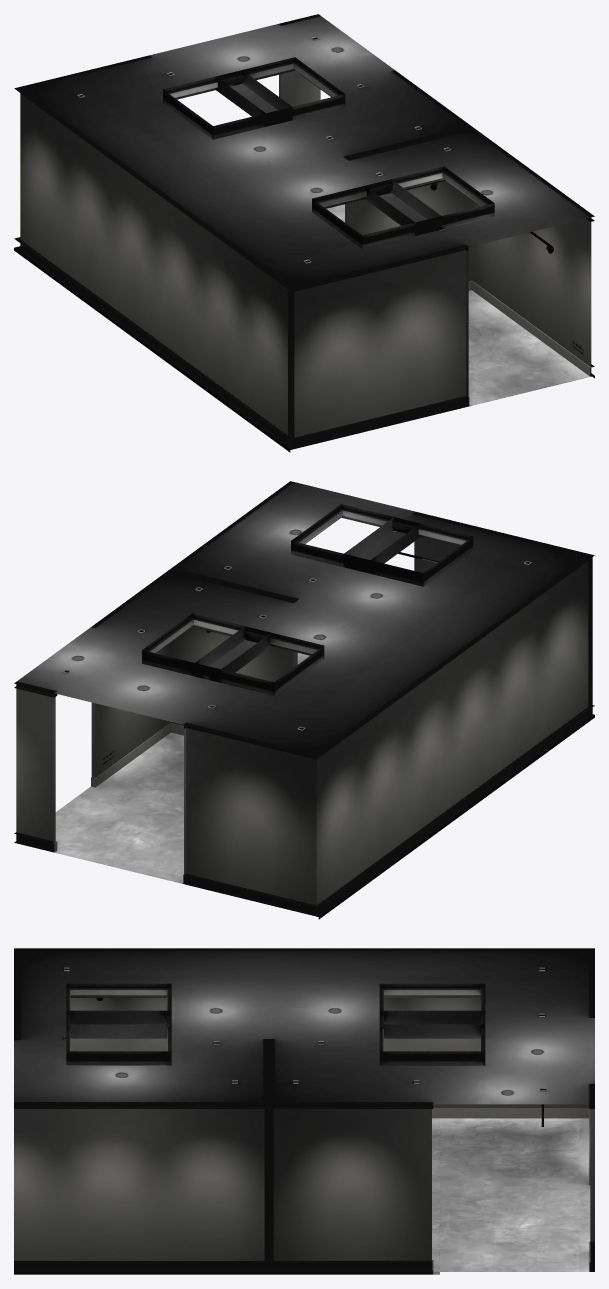
File: Room_2.glb
The picture shows the model from 3 angles, top to bottom: view 1: azimuth 30°, elevation 25°; view 2: azimuth 150°, elevation 25°; view 3: azimuth 270°, elevation 25°; orthographic projection. The views are drawn at different scales.
Parts seen in each view (by area): view 1: room_2.001; view 2: room_2.001; view 3: room_2.001.
Boxes of the visible parts, x1,y1,x2,y2 form: room_2.001: [14, 14, 594, 452]; room_2.001: [14, 481, 594, 919]; room_2.001: [14, 948, 594, 1274].
Size of the model in its own units: 6.01 by 3.32 by 9.46.
Materials: 3 (3 with a texture image).
